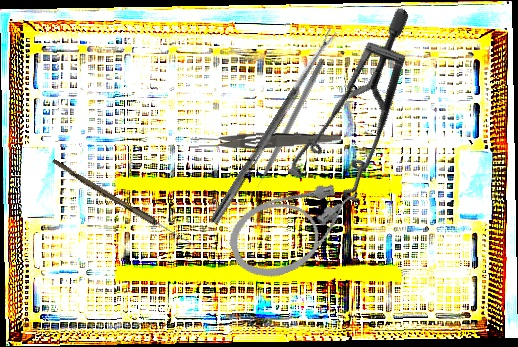Cannula: (220, 170, 376, 289)
Dressing Forceps: (189, 127, 342, 152)
Pusher: (248, 56, 326, 200)
Speculum: (244, 4, 479, 226)
Surgical Spoon: (209, 28, 339, 226), (49, 158, 196, 248)
